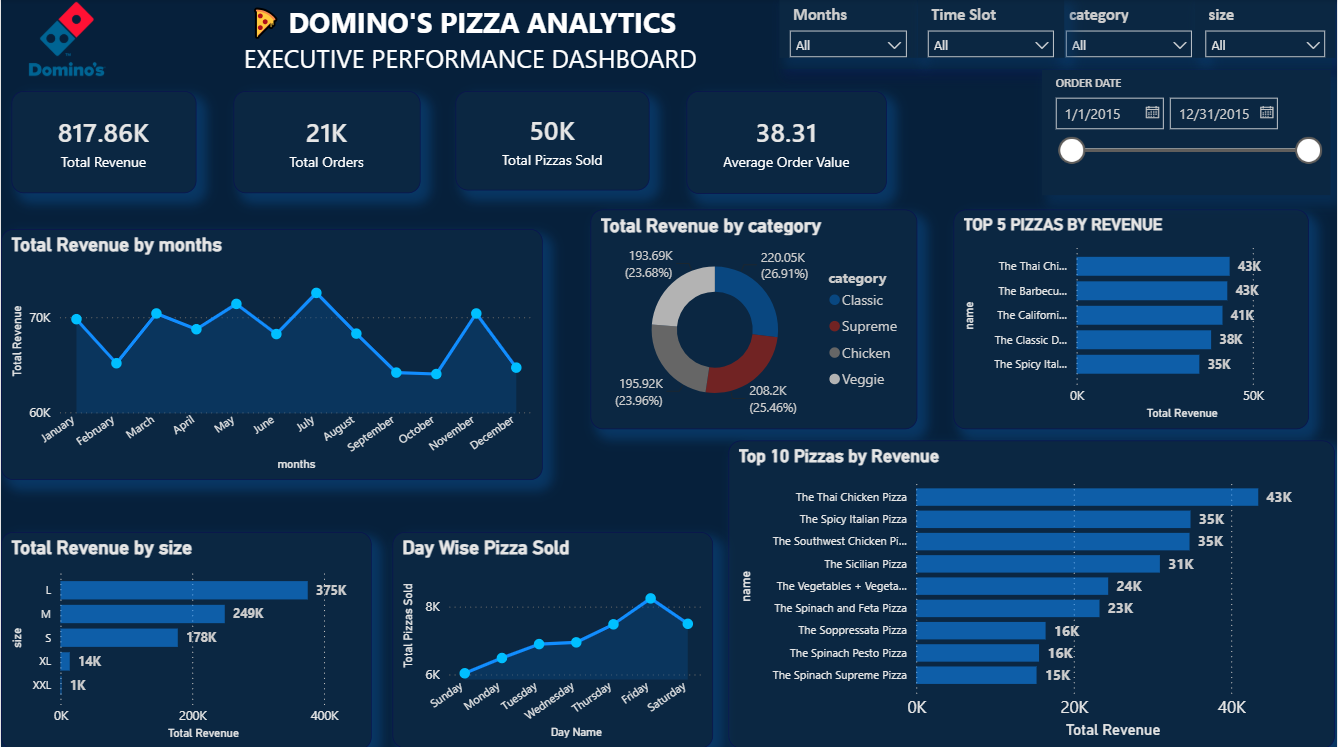

The dashboard page shown, as its layout file describes it:
{"tool":"powerbi","page":{"name":"Page 1","canvas":[1280,720],"ordinal":0},"visuals":[{"type":"shape","box":[745,0,531.5,68.1],"z":0},{"type":"slicer","fields":{"Values":["orders.months"]},"box":[746.5,0,131.7,57.5],"z":1000},{"type":"slicer","fields":{"Values":["Pizzatypes.category"]},"box":[1011.5,0,140.8,57.5],"z":2000},{"type":"slicer","fields":{"Values":["pizzas.size"]},"box":[1144.7,0,134.8,57.5],"z":3000},{"type":"slicer","fields":{"Values":["orders.Time Slot"]},"box":[878.2,0,140.8,57.5],"z":4000},{"type":"cardVisual","fields":{"Data":["Pizzatypes.Average Order Value"]},"box":[657.2,89.3,192.3,98.4],"z":5000},{"type":"cardVisual","fields":{"Data":["Pizzatypes.Total Orders"]},"box":[223,88.8,179.5,98.3],"z":6000},{"type":"cardVisual","fields":{"Data":["Pizzatypes.Total Pizzas Sold"]},"box":[436.1,89.3,186.2,95.4],"z":7000},{"type":"cardVisual","fields":{"Data":["Pizzatypes.Total Revenue"]},"box":[9.4,88.8,177.6,98.3],"z":8000},{"type":"areaChart","fields":{"Category":["orders.months"],"Y":["Pizzatypes.Total Revenue"]},"box":[0,221.1,519.4,240.8],"z":9000},{"type":"donutChart","fields":{"Category":["Pizzatypes.category"],"Y":["Pizzatypes.Total Revenue"]},"box":[564.8,202.9,313.4,210.5],"z":10000},{"type":"clusteredBarChart","fields":{"Category":["pizzas.size"],"Y":["Pizzatypes.Total Revenue"]},"box":[0,511.7,355,208.3],"z":11000},{"type":"clusteredBarChart","title":"TOP 5 PIZZAS BY REVENUE","fields":{"Category":["Pizzatypes.name"],"Y":["Pizzatypes.Total Revenue"]},"box":[913.1,202.9,340.7,210.5],"z":12000},{"type":"clusteredBarChart","title":"Top 10 Pizzas by Revenue","fields":{"Category":["Pizzatypes.name"],"Y":["Pizzatypes.Total Revenue"]},"box":[698,424,581.5,295.3],"z":13000},{"type":"image","box":[0,0,127.2,78.7],"z":14000},{"type":"textbox","box":[0,0,746.5,78.7],"z":15000},{"type":"slicer","fields":{"Values":["orders.date"]},"box":[998.3,68.3,276.7,120],"z":16000},{"type":"lineChart","title":"Day Wise Pizza Sold","fields":{"Category":["orders.Day Name"],"Y":["Pizzatypes.Total Pizzas Sold"]},"box":[375.5,511.8,307.4,207.4],"z":17000}]}

Visuals, with their boxes in screenshot pixels (x1, y1, x2, y2), scaled from the page's 1280x720 canvas onto the 1338x747 screenshot:
shape: pyautogui.locateOnScreen(779, 0, 1334, 71)
slicer - orders.months: pyautogui.locateOnScreen(780, 0, 918, 60)
slicer - Pizzatypes.category: pyautogui.locateOnScreen(1057, 0, 1205, 60)
slicer - pizzas.size: pyautogui.locateOnScreen(1197, 0, 1337, 60)
slicer - orders.Time Slot: pyautogui.locateOnScreen(918, 0, 1065, 60)
cardVisual - Pizzatypes.Average Order Value: pyautogui.locateOnScreen(687, 93, 888, 195)
cardVisual - Pizzatypes.Total Orders: pyautogui.locateOnScreen(233, 92, 421, 194)
cardVisual - Pizzatypes.Total Pizzas Sold: pyautogui.locateOnScreen(456, 93, 650, 192)
cardVisual - Pizzatypes.Total Revenue: pyautogui.locateOnScreen(10, 92, 195, 194)
areaChart - orders.months x Pizzatypes.Total Revenue: pyautogui.locateOnScreen(0, 229, 543, 479)
donutChart - Pizzatypes.category x Pizzatypes.Total Revenue: pyautogui.locateOnScreen(590, 211, 918, 429)
clusteredBarChart - pizzas.size x Pizzatypes.Total Revenue: pyautogui.locateOnScreen(0, 531, 371, 746)
"TOP 5 PIZZAS BY REVENUE" clusteredBarChart: pyautogui.locateOnScreen(954, 211, 1311, 429)
"Top 10 Pizzas by Revenue" clusteredBarChart: pyautogui.locateOnScreen(730, 440, 1337, 746)
image: pyautogui.locateOnScreen(0, 0, 133, 82)
textbox: pyautogui.locateOnScreen(0, 0, 780, 82)
slicer - orders.date: pyautogui.locateOnScreen(1044, 71, 1333, 195)
"Day Wise Pizza Sold" lineChart: pyautogui.locateOnScreen(393, 531, 714, 746)
